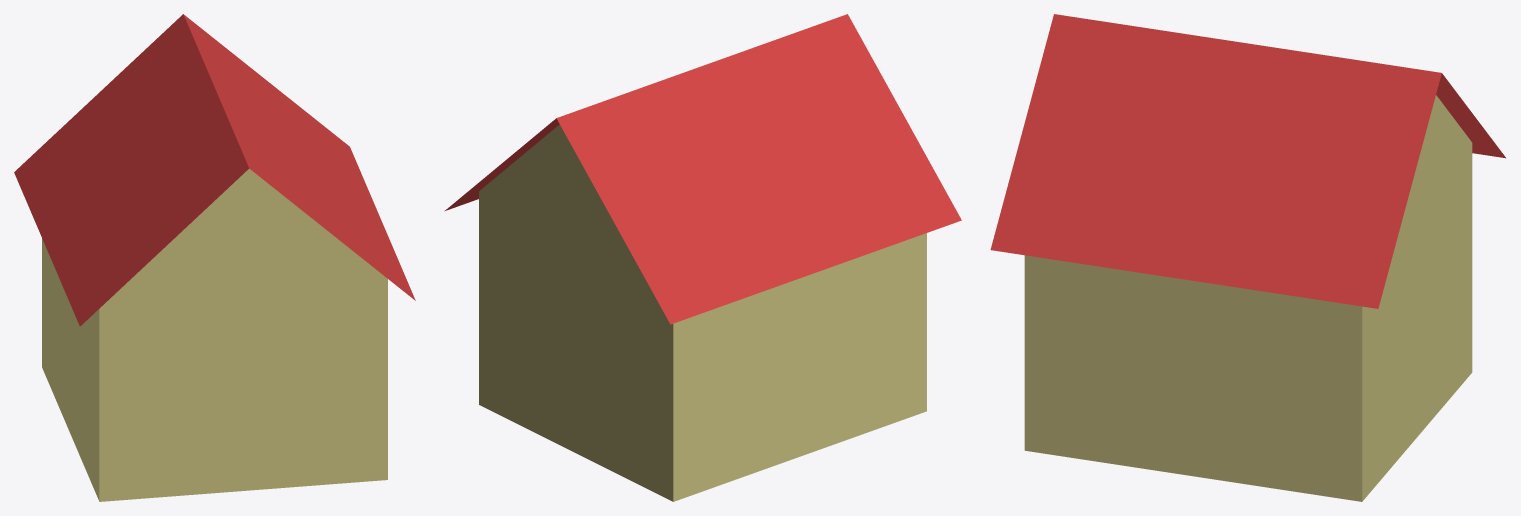
3 views of the same model, side by side, from view 1: azimuth 30°, elevation 25°; view 2: azimuth 150°, elevation 25°; view 3: azimuth 270°, elevation 25° (orthographic). The views are drawn at different scales.
Size of the model in its own units: 13.86 by 14.42 by 11.38.
